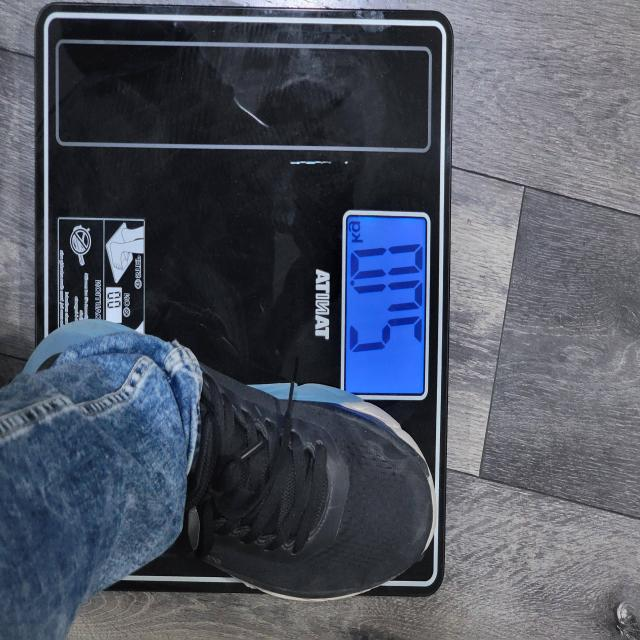ws: (37, 5, 454, 463)
